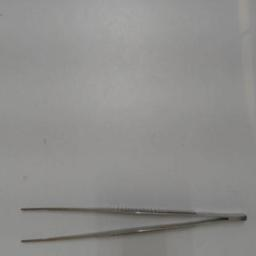DeBakey Dissector: (12, 194, 252, 250)
